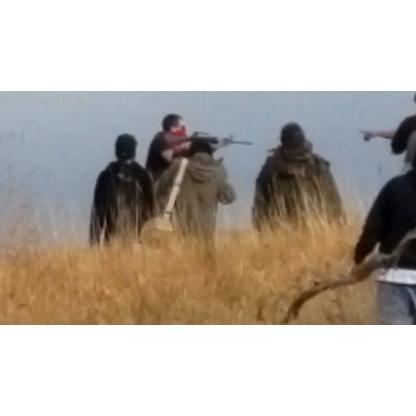gun: (164, 129, 256, 149)
